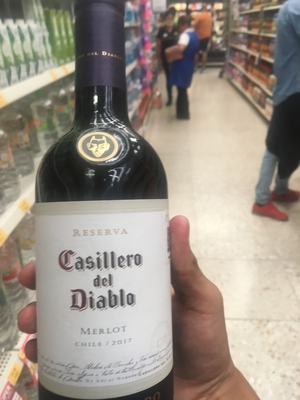casillero del diablo merlot: (28, 8, 179, 400)
